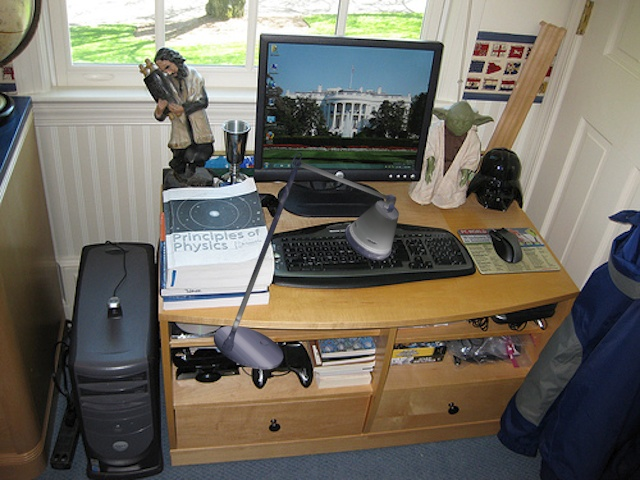desk_lamp: (209, 153, 400, 384)
